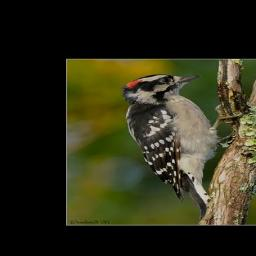Woodpecker: (119, 74, 239, 220)
